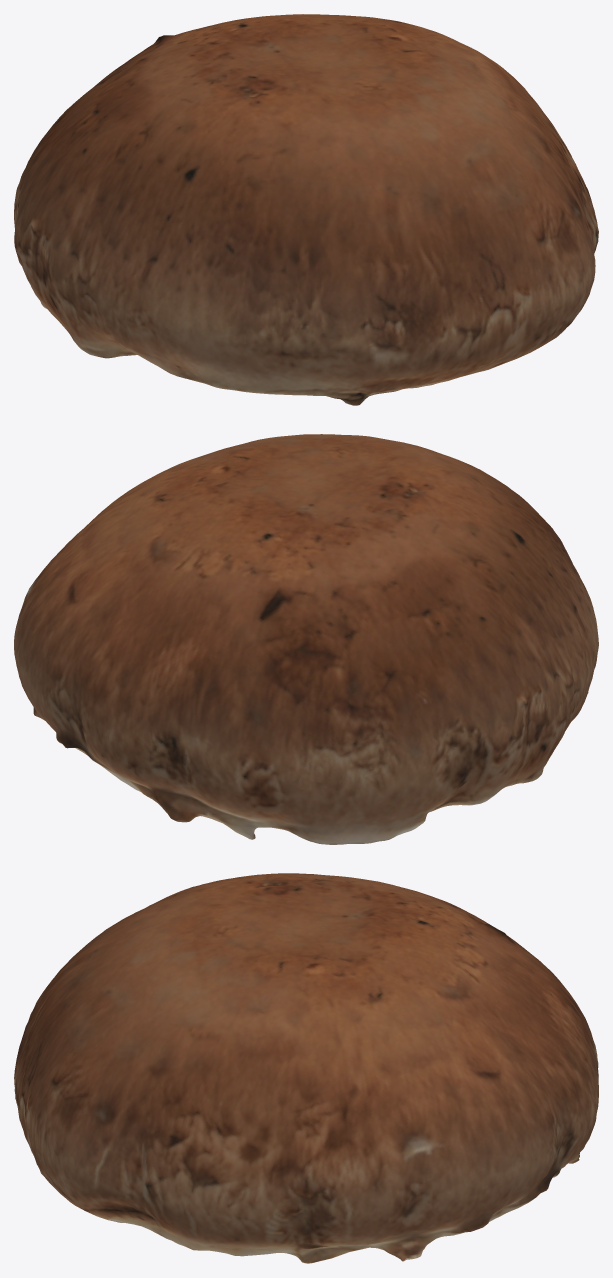
The picture shows the model from 3 angles, top to bottom: view 1: azimuth 30°, elevation 25°; view 2: azimuth 150°, elevation 25°; view 3: azimuth 270°, elevation 25°; orthographic projection.
Size of the model in its own units: 9.95 by 4.98 by 10.1.
Materials: 2 (2 with a texture image).
